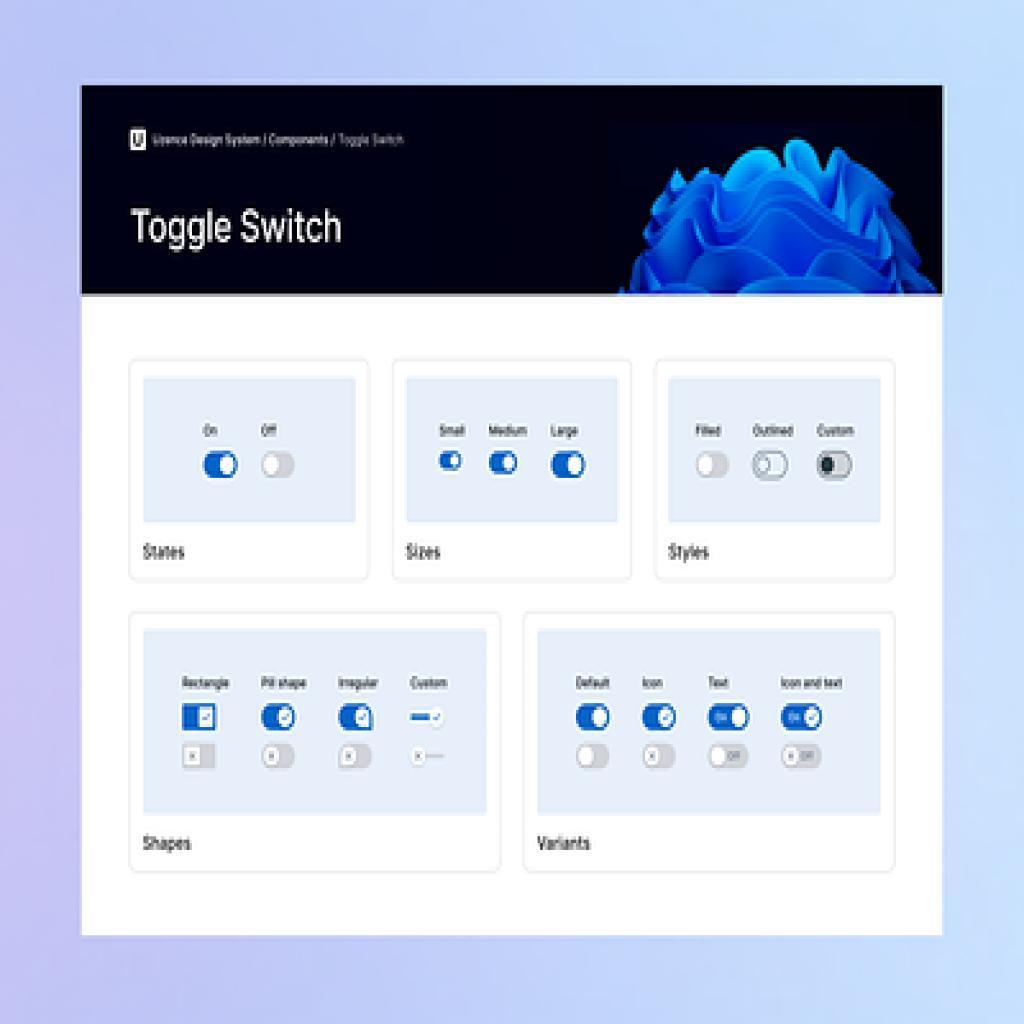switch: (179, 701, 220, 735), (782, 703, 825, 734), (202, 451, 242, 483), (752, 451, 793, 482), (708, 705, 752, 733), (711, 745, 754, 773), (262, 702, 299, 734), (339, 703, 377, 734), (180, 743, 220, 772), (261, 451, 299, 481), (577, 744, 617, 772), (816, 452, 853, 482), (644, 744, 681, 774), (338, 745, 376, 774), (643, 704, 681, 733), (784, 746, 826, 772), (575, 704, 612, 733), (552, 452, 587, 482), (264, 745, 299, 774), (697, 451, 730, 480), (409, 707, 447, 731), (411, 747, 449, 770), (489, 450, 520, 478), (439, 451, 464, 474)
